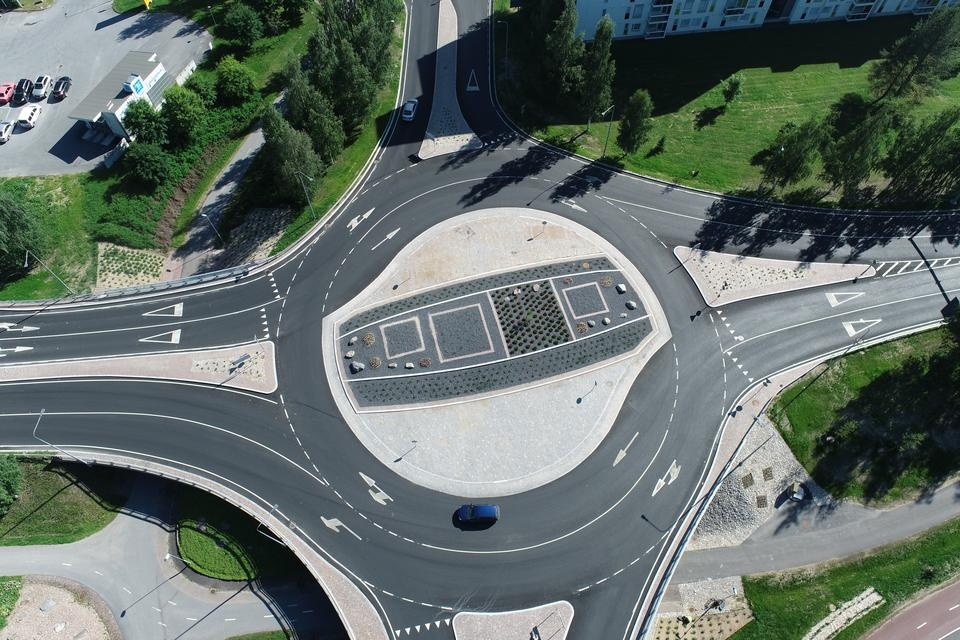roundabout: (232, 109, 761, 640)
